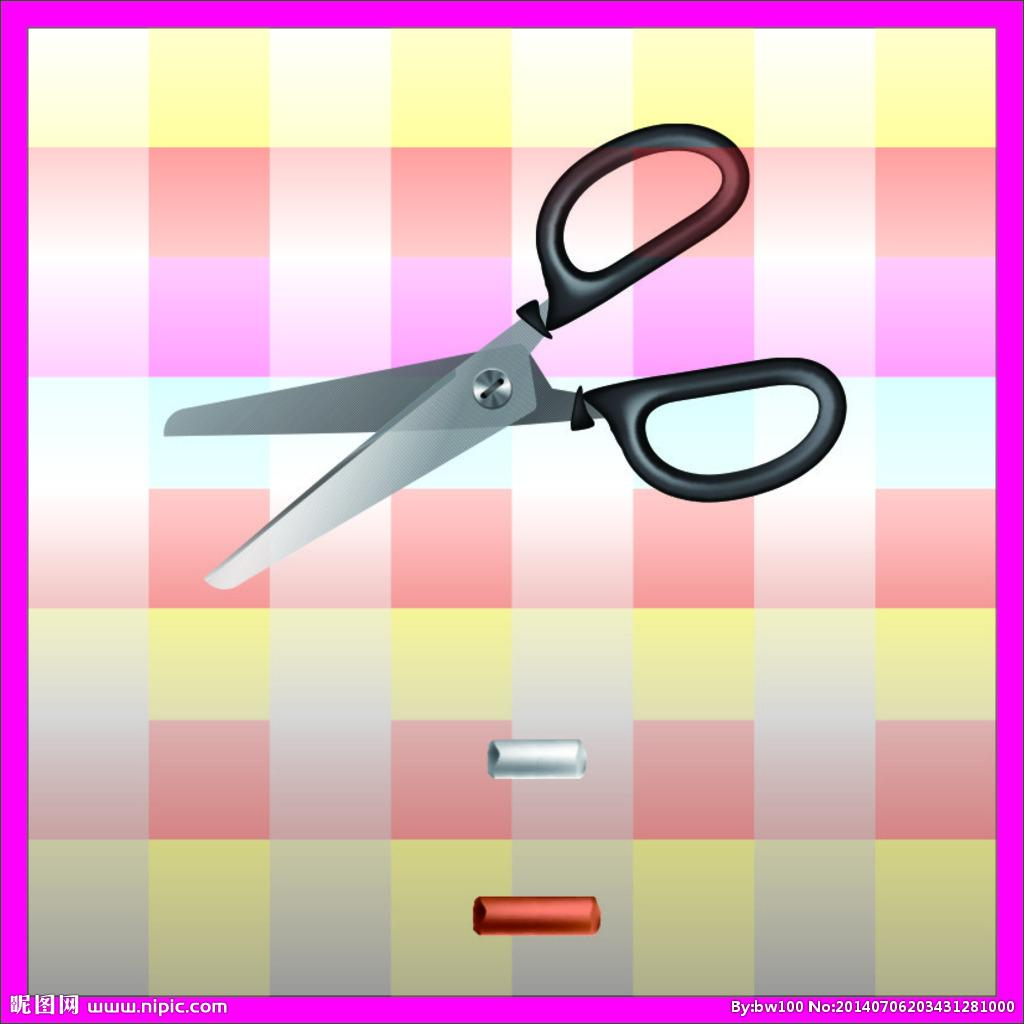scissor: (197, 132, 868, 597)
